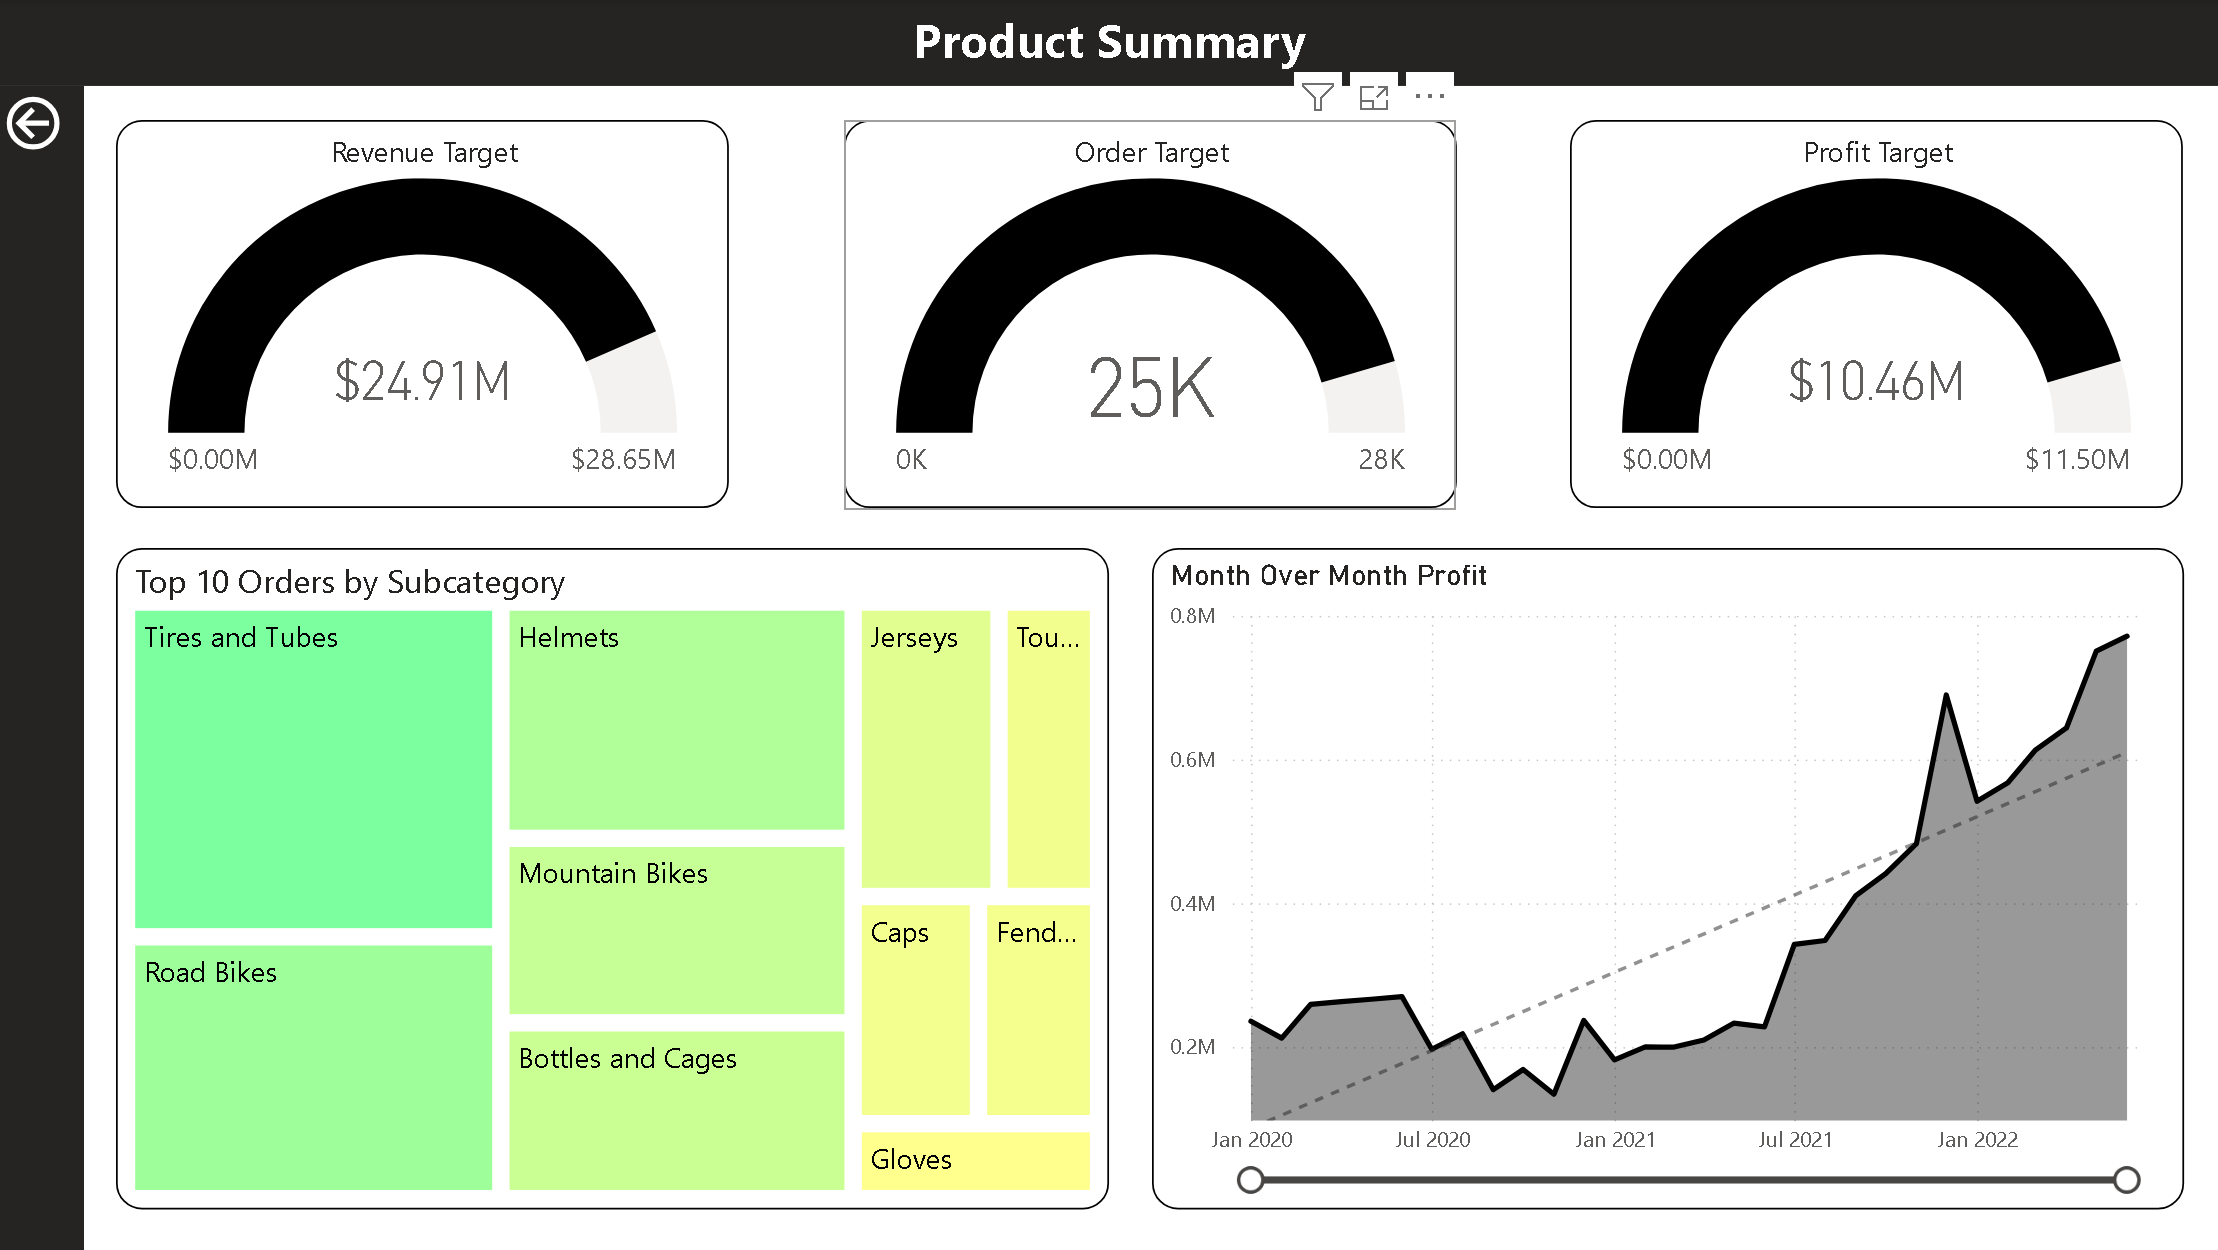

The page's visual inventory and layout, read from the dashboard file:
{"tool":"powerbi","page":{"name":"Product Summary","canvas":[1280,720],"ordinal":1},"visuals":[{"type":"textbox","box":[0,0,1281,49.5],"z":0},{"type":"shape","box":[0,49.5,49.5,670.5],"z":1000},{"type":"gauge","title":"Revenue Target","fields":{"MaxValue":["measure table.Target Revenue"],"Y":["measure table.Total Revenue"]},"box":[68.1,69.7,353.2,223.6],"z":2000},{"type":"gauge","title":"Order Target","fields":{"MaxValue":["measure table.Target Orders"],"Y":["measure table.Total Orders"]},"box":[486.9,69.7,353.2,223.6],"z":3000},{"type":"gauge","title":"Profit Target","fields":{"MaxValue":["measure table.Target Profit"],"Y":["measure table.Total Profit"]},"box":[905.7,69.7,353.2,223.6],"z":4000},{"type":"areaChart","title":"Month Over Month Profit","fields":{"Category":["Calendar Lookup.Start of Month.Variation.Date Hierarchy.Year","Calendar Lookup.Start of Month.Variation.Date Hierarchy.Quarter","Calendar Lookup.Start of Month.Variation.Date Hierarchy.Month","Calendar Lookup.Start of Month.Variation.Date Hierarchy.Day"],"Y":["measure table.Total Profit"]},"box":[664.3,315.9,594.6,380.8],"z":5000},{"type":"treemap","title":"Top 10 Orders by Subcategory","fields":{"Group":["Product Subcategories Lookup.SubcategoryName"],"Values":["measure table.Total Orders"]},"box":[68.1,315.9,571.9,380.8],"z":6000},{"type":"actionButton","box":[0,50.2,50.2,40.5],"z":6001}]}

Visuals, with their boxes on the page's 1280x720 design canvas (x1, y1, x2, y2). These are canvas units, not pixel positions in the 2218x1250 screenshot, which may show the page scaled, cropped or inside an application window:
textbox: (0,0,1281,50)
shape: (0,50,50,720)
"Revenue Target" gauge: (68,70,421,293)
"Order Target" gauge: (487,70,840,293)
"Profit Target" gauge: (906,70,1259,293)
"Month Over Month Profit" areaChart: (664,316,1259,697)
"Top 10 Orders by Subcategory" treemap: (68,316,640,697)
actionButton: (0,50,50,91)
